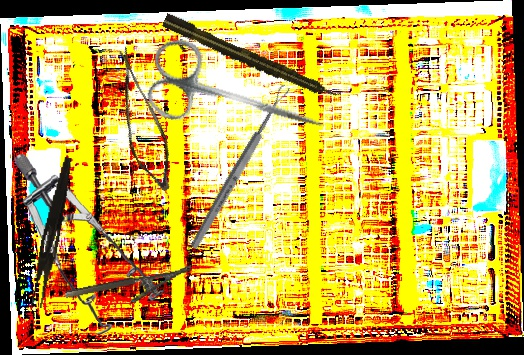Dressing Forceps: (29, 155, 75, 310)
Handpiece: (161, 11, 343, 106)
Iris Scissors: (139, 33, 337, 161)
Micro Scissor: (85, 44, 195, 196)
Needle Holder: (64, 265, 196, 316)
Speculum: (13, 146, 168, 340)
Surgical Spoon: (188, 83, 292, 251)
